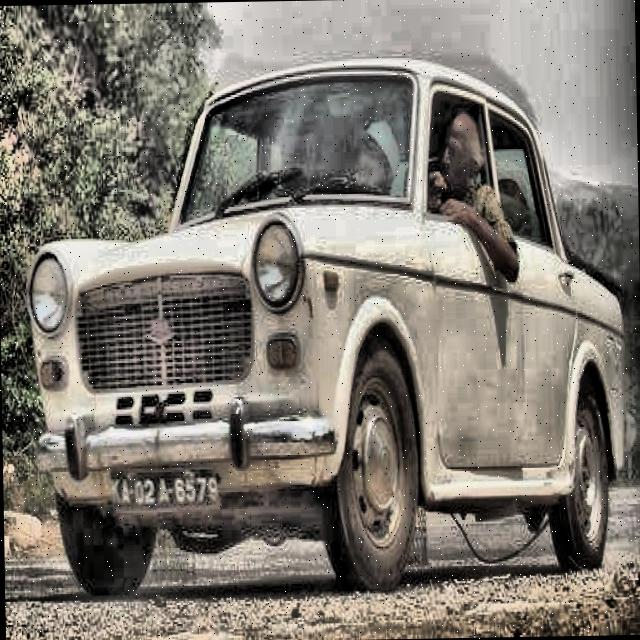license_plate: (108, 462, 222, 516)
